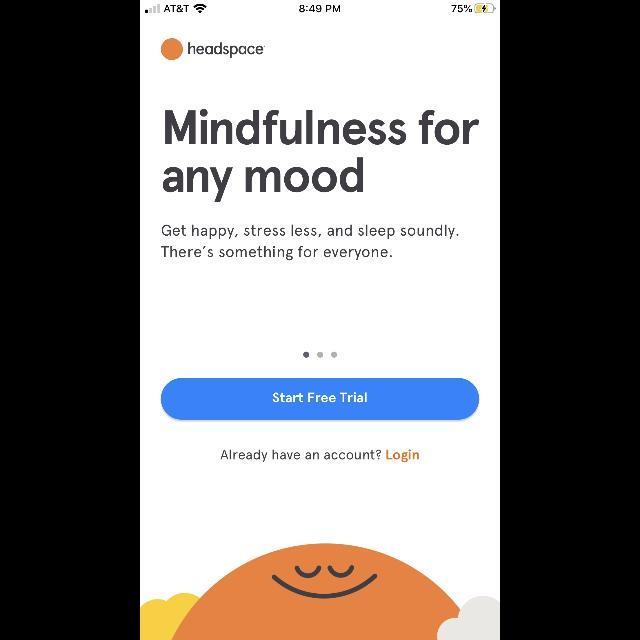image: (140, 544, 500, 640), (161, 38, 183, 60)
pageindicator: (304, 352, 336, 358)
text: (163, 108, 479, 202), (162, 224, 458, 260), (221, 450, 381, 462), (188, 42, 266, 58), (387, 450, 419, 462)
textbutton: (161, 378, 479, 419)
uppertaskbar: (140, 0, 500, 14)
